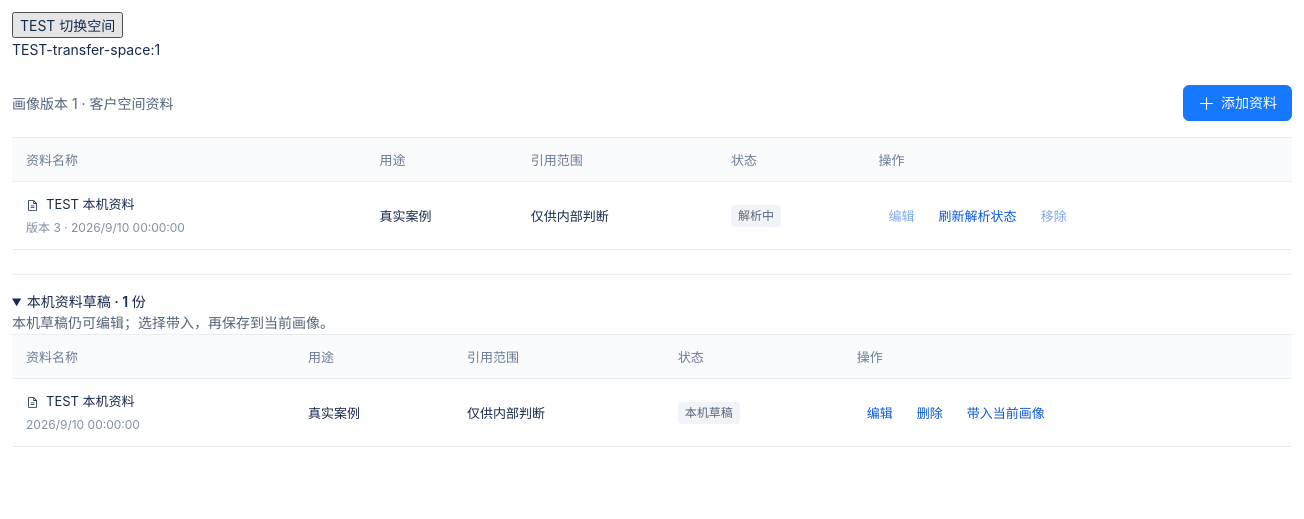
Test case: 已有目标正在解析时不能带入修改或自动创建另一份资料
Step 1. Click the button "带入当前画像" → (1006, 413), box [957, 395, 1055, 431]
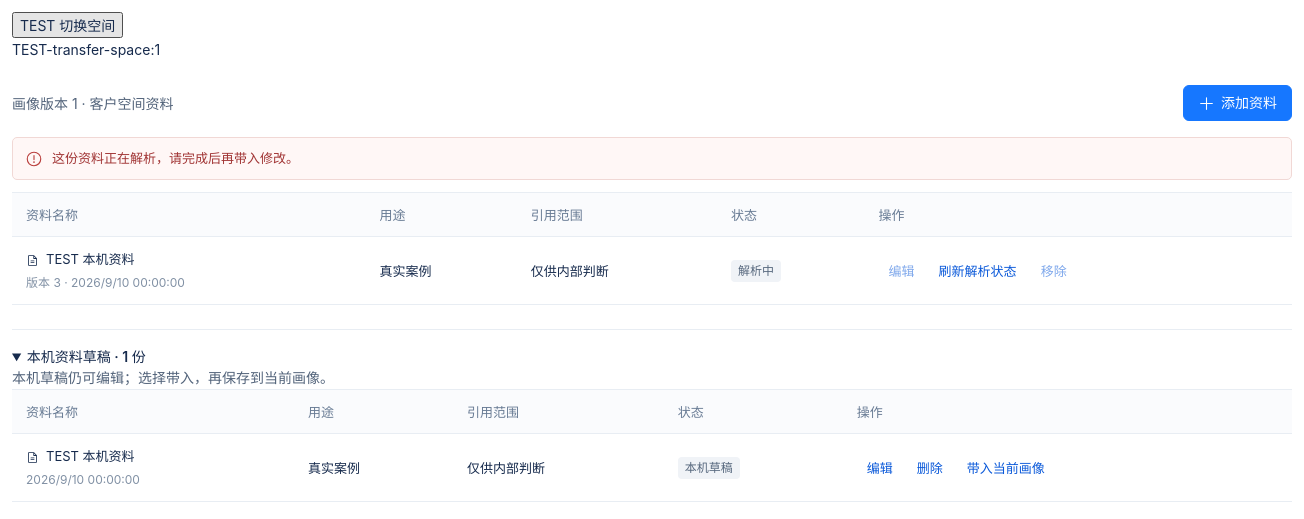
Expected: the text "这份资料正在解析，请完成后再带入修改。" is shown, [52, 150, 299, 166]
